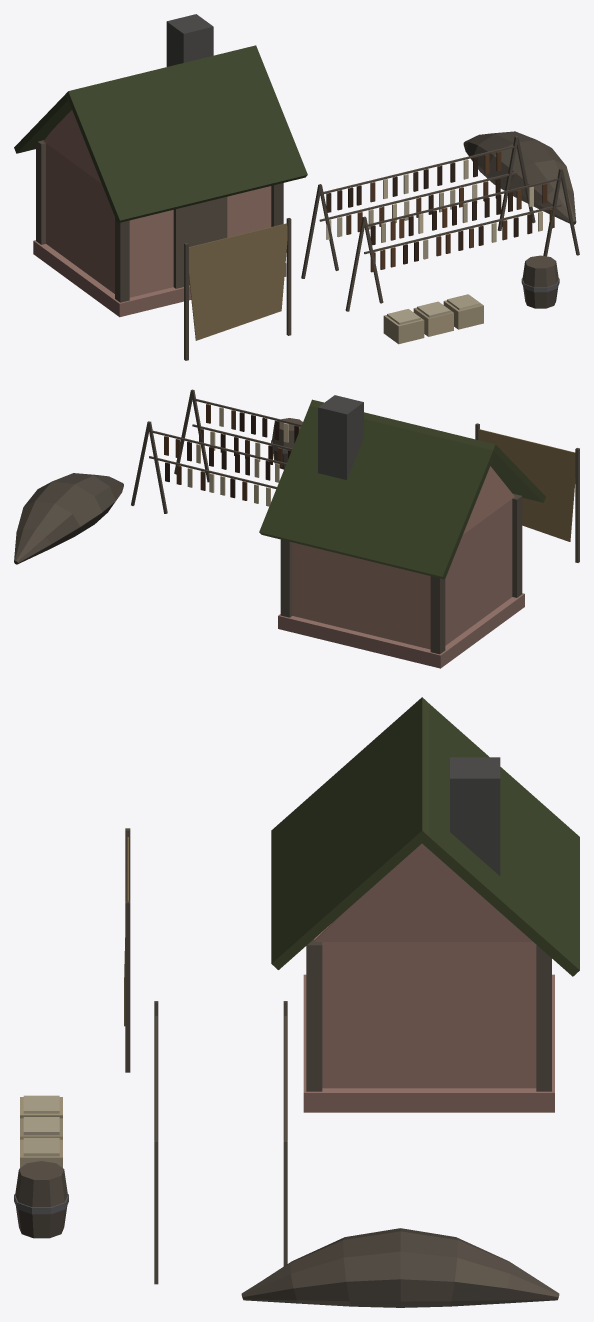
The model's file is walk_reef_fishery.glb.
The picture shows the model from 3 angles, top to bottom: view 1: azimuth 30°, elevation 25°; view 2: azimuth 150°, elevation 25°; view 3: azimuth 270°, elevation 25°; orthographic projection. The views are drawn at different scales.
Visible parts, largest first — view 1: walk_reef_fishery, walk_reef_fishery_roof; view 2: walk_reef_fishery, walk_reef_fishery_roof; view 3: walk_reef_fishery, walk_reef_fishery_roof.
Boxes of the visible parts, x1=… form: walk_reef_fishery: x1=33, y1=110, x2=579, y2=360; walk_reef_fishery_roof: x1=14, y1=14, x2=307, y2=223; walk_reef_fishery: x1=14, y1=389, x2=579, y2=668; walk_reef_fishery_roof: x1=259, y1=395, x2=545, y2=579; walk_reef_fishery: x1=14, y1=828, x2=559, y2=1307; walk_reef_fishery_roof: x1=271, y1=697, x2=579, y2=976.
Size of what is drawn, in the model's own units: 11.15 by 4.9 by 7.88.
Materials: 2 (2 with a texture image).
